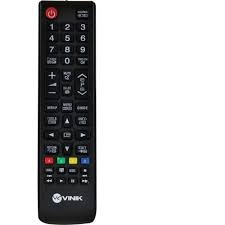remote control: (36, 1, 100, 225)
